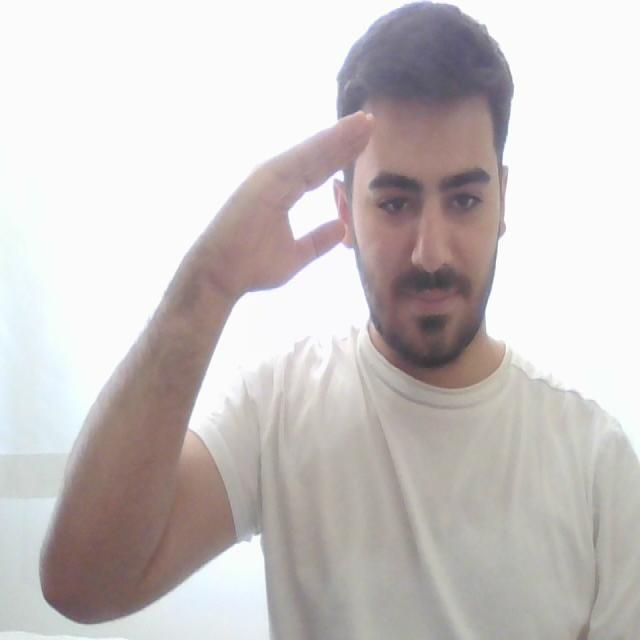Merhaba: (192, 66, 393, 324)
